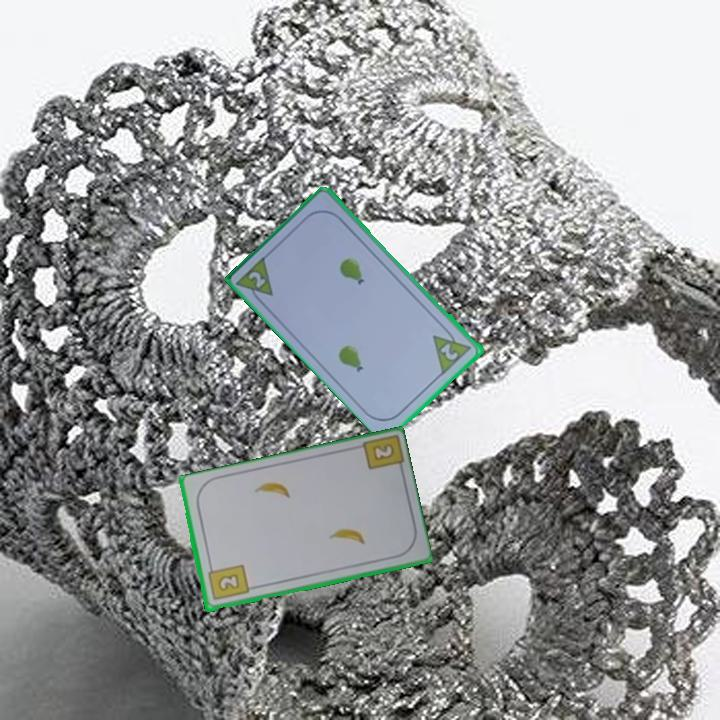2b: (204, 561, 251, 603), (369, 440, 397, 464)
2p: (233, 252, 277, 308), (437, 339, 462, 363)
